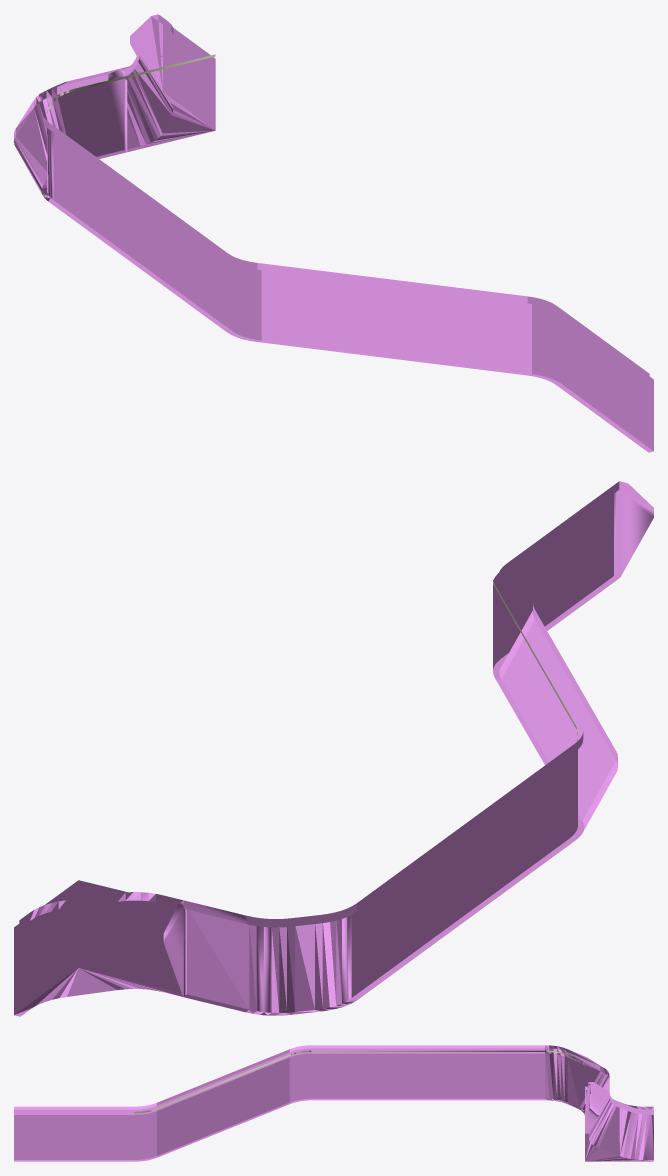
Rendered from plate_trim_96m_cap_a.glb.
3 views of the same model, one above another, from view 1: azimuth 30°, elevation 25°; view 2: azimuth 150°, elevation 25°; view 3: azimuth 270°, elevation 25° (orthographic). The views are drawn at different scales.
Bounding box in the file's own units: 25.48 × 8.5 × 96.
